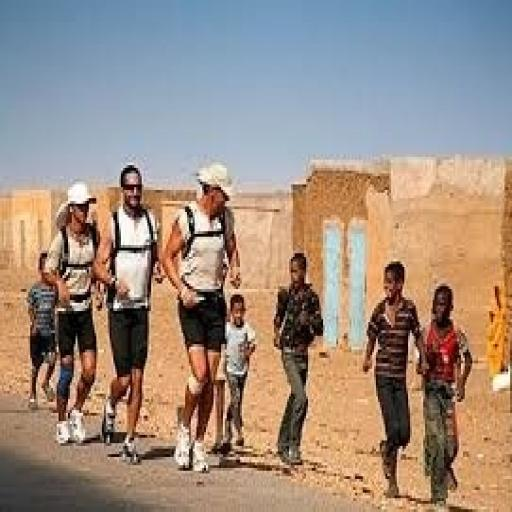running: (160, 160, 244, 476), (91, 162, 166, 468), (359, 259, 431, 501), (41, 179, 104, 449), (414, 281, 476, 509), (270, 248, 327, 473)
